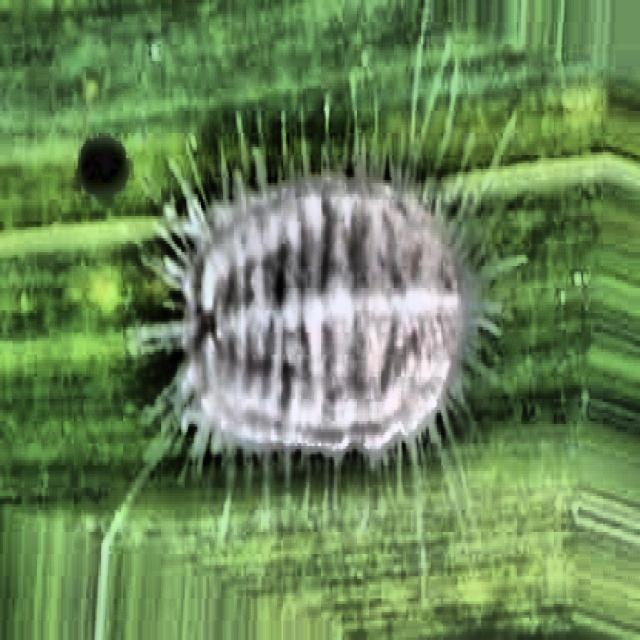Mealy-bug: (139, 112, 524, 510)
